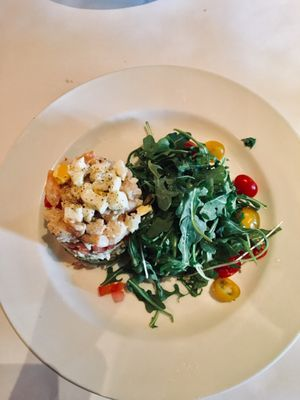sushi: (27, 89, 293, 400)
